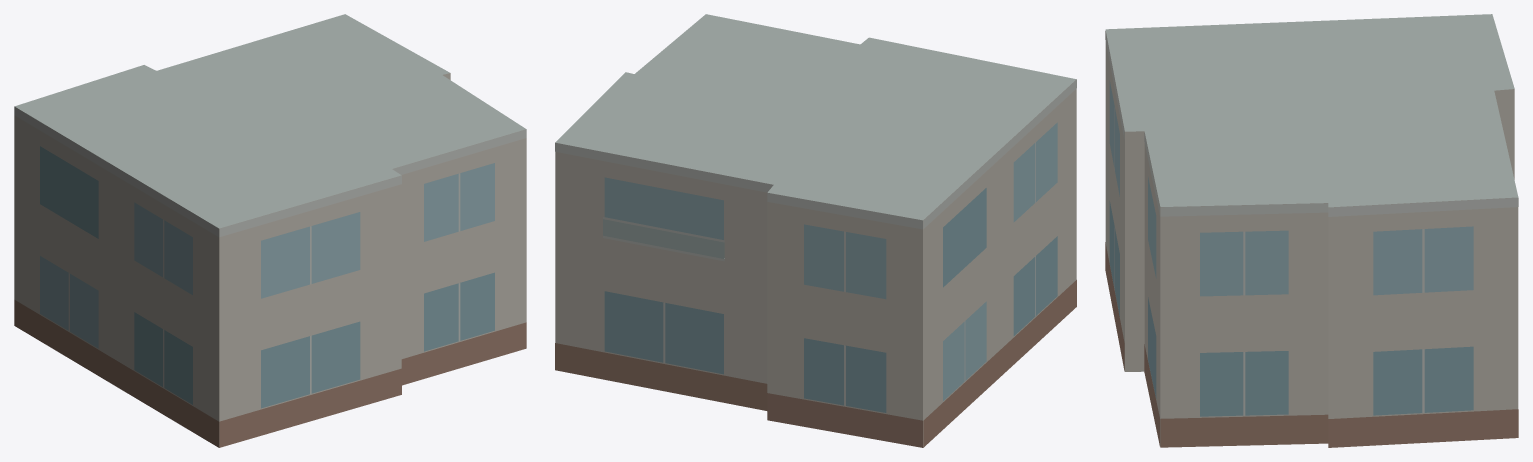
The model's file is survey-upis-32659110.glb.
The picture shows the model from 3 angles, left to right: view 1: azimuth 30°, elevation 25°; view 2: azimuth 150°, elevation 25°; view 3: azimuth 270°, elevation 25°; orthographic projection. The views are drawn at different scales.
Visible parts, largest first — view 1: survey-upis-32659110.tmp; view 2: survey-upis-32659110.tmp; view 3: survey-upis-32659110.tmp.
Boxes of the visible parts, bbox=[...] form: survey-upis-32659110.tmp: bbox=[14, 14, 526, 447]; survey-upis-32659110.tmp: bbox=[555, 14, 1076, 447]; survey-upis-32659110.tmp: bbox=[1105, 14, 1518, 447].
Bounding box in the file's own units: 10.53 × 6.1 × 9.51.
